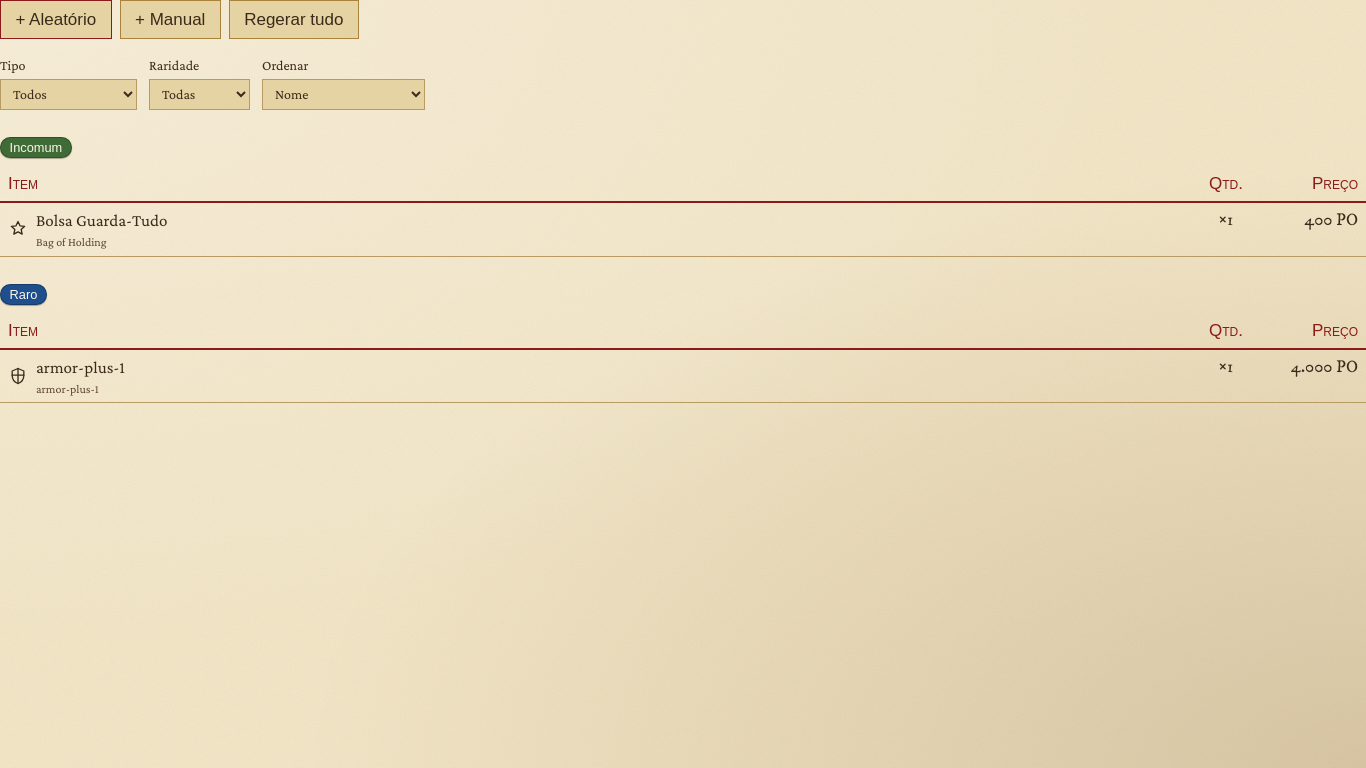
Test case: ItemsPanel › abre o editor pela linha e remove o item
Click the button "Bolsa Guarda-Tudo Bag of Holding" at point(88, 229), box [8,208,168,250]
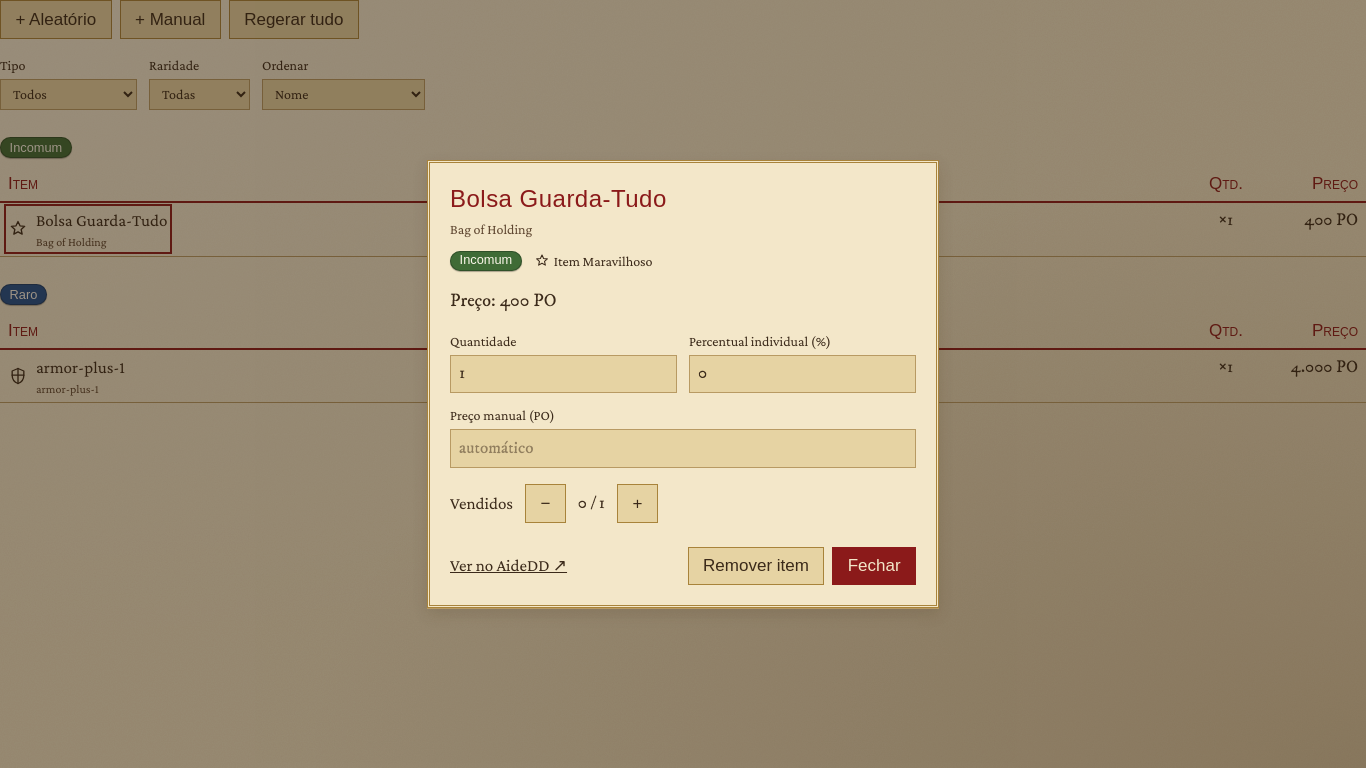
Click the button "Remover item" at point(756, 566), box [688,547,824,585]
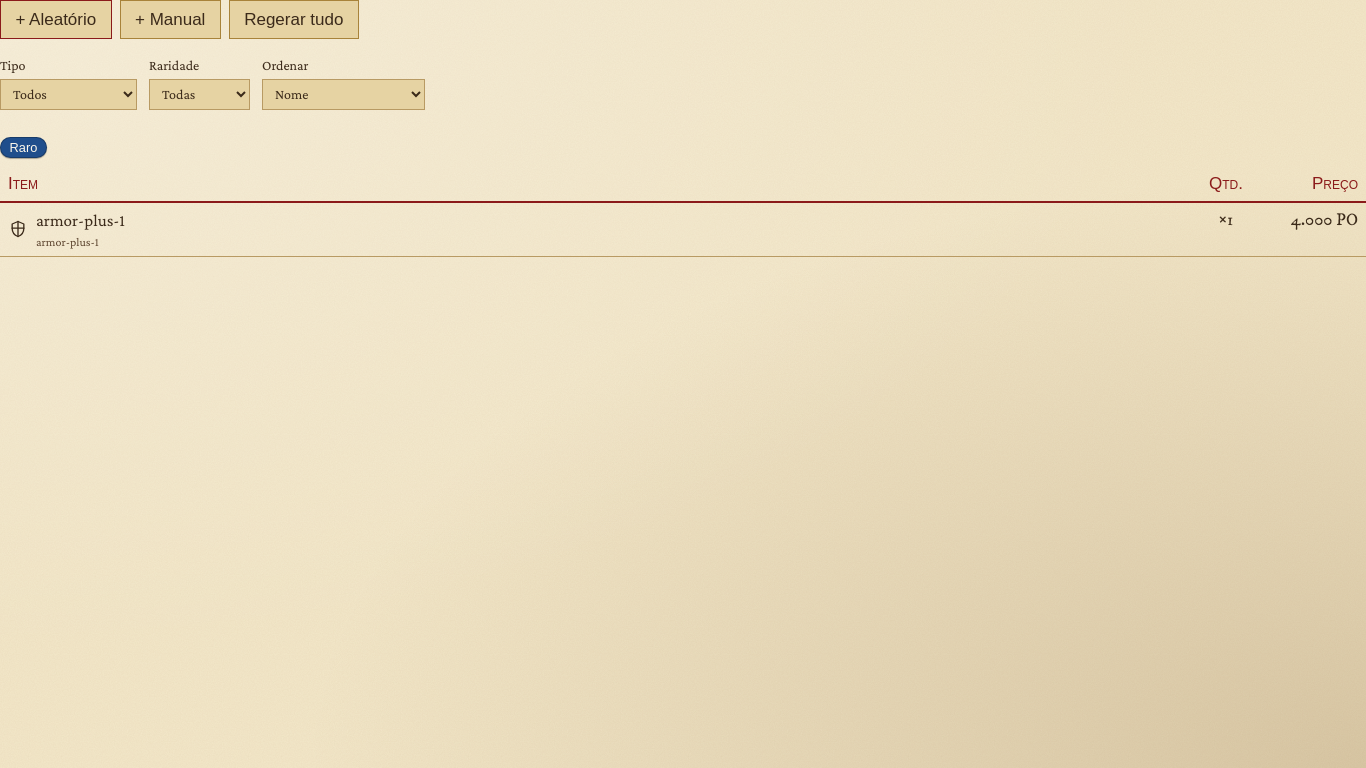
Expected: the dialog is gone
